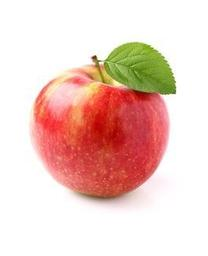apple: (28, 41, 176, 198)
